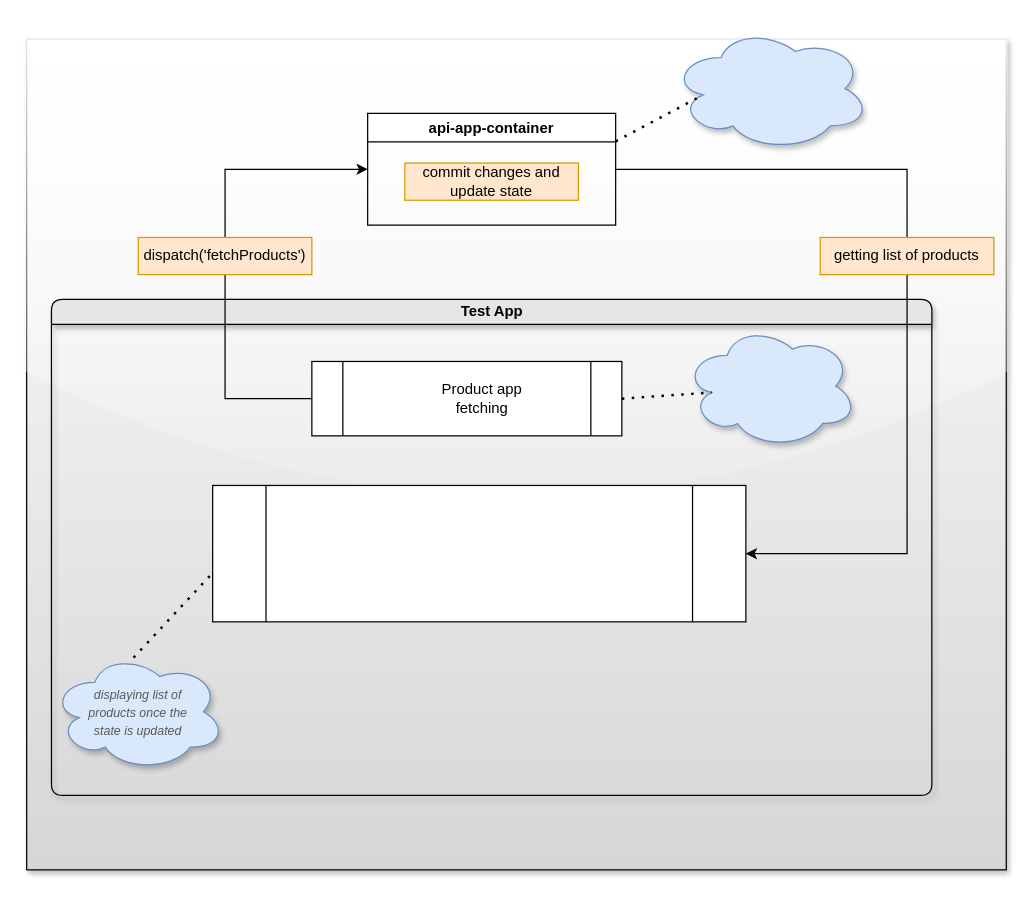
Some shapes in this 1035 by 900 pixel diagram are drawn without their labels. The centre of each missing label's shape, as x and y in pixels:
"A button when clicked will dispactch an action" belongs at [771,387].
"Product app listing" belongs at [478,553].
"where we have our vuex store instance. We are exposing it to the 2 apps" belongs at [771,89].
